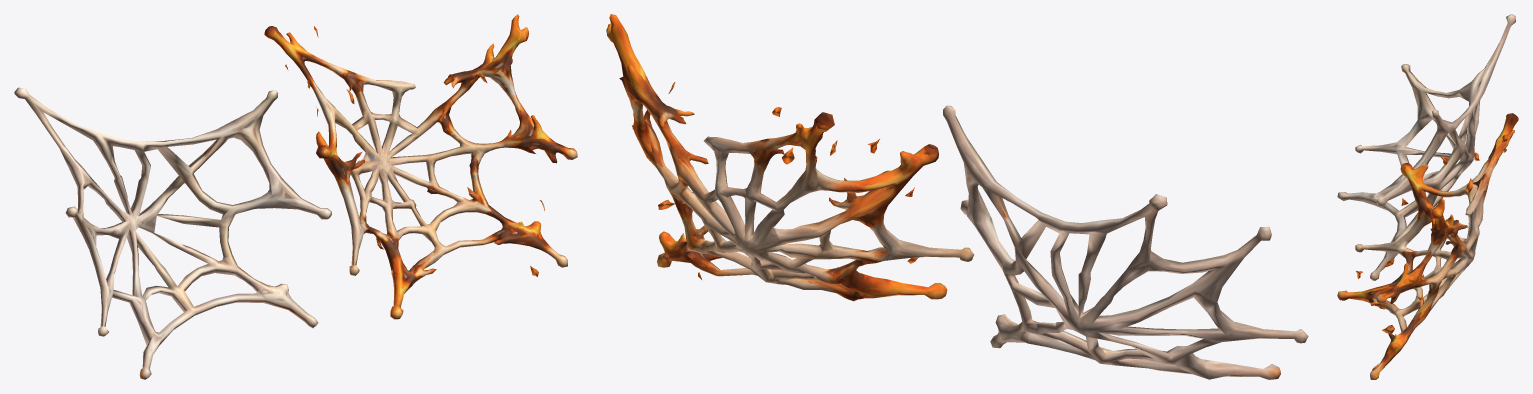
The model's file is telarana_red.glb.
3 renders of one model, left to right at view 1: azimuth 30°, elevation 25°; view 2: azimuth 150°, elevation 25°; view 3: azimuth 270°, elevation 25°, orthographic. The views are drawn at different scales.
Visible parts, largest first — view 1: tripo_node_154f6fb6-403e-4377-8aeb-3c62dc07fa4c; view 2: tripo_node_154f6fb6-403e-4377-8aeb-3c62dc07fa4c; view 3: tripo_node_154f6fb6-403e-4377-8aeb-3c62dc07fa4c.
Boxes of the visible parts, left/top/right/bottom form: tripo_node_154f6fb6-403e-4377-8aeb-3c62dc07fa4c: left=14, top=14, right=577, bottom=379; tripo_node_154f6fb6-403e-4377-8aeb-3c62dc07fa4c: left=606, top=14, right=1308, bottom=379; tripo_node_154f6fb6-403e-4377-8aeb-3c62dc07fa4c: left=1337, top=14, right=1518, bottom=379.
Size of the model in its own units: 0.998 by 0.4473 by 0.3926.
1 material, 1 textured.
